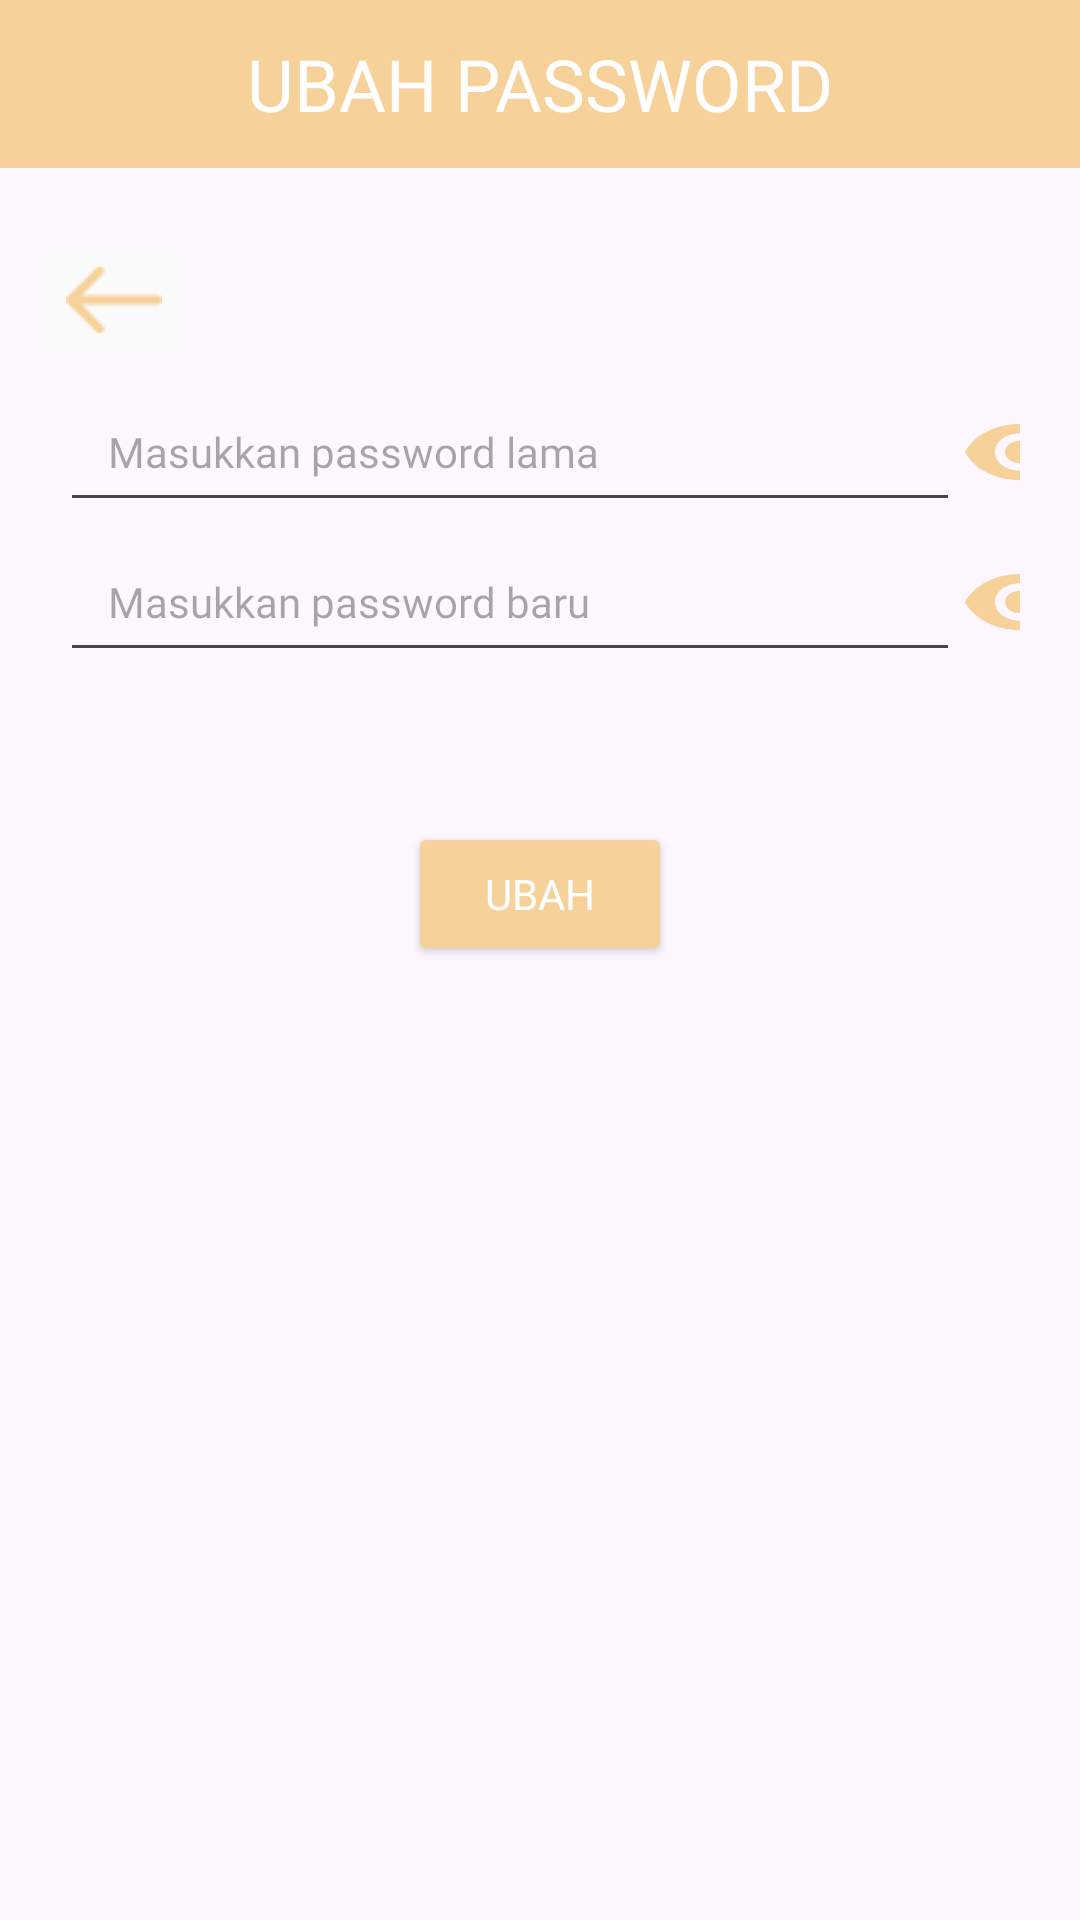

Icons on this 1080px×1920px Android screen, each with the point to tap as (x,y):
Back: (114,300)
